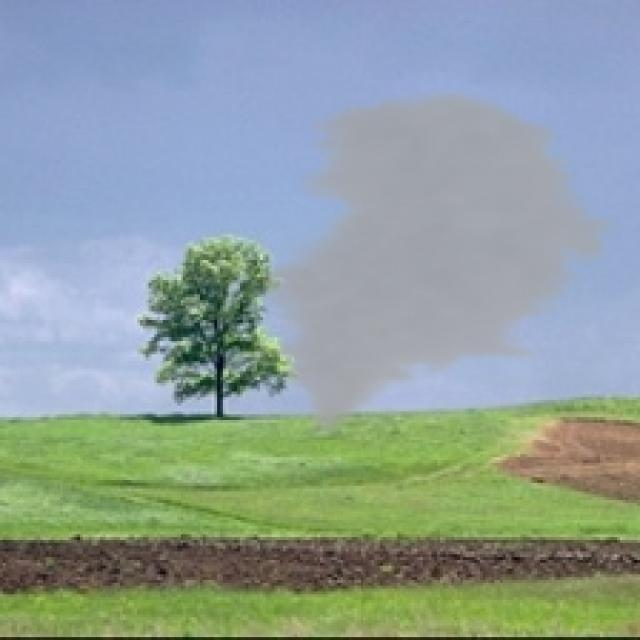Smoke: (248, 86, 620, 437)
